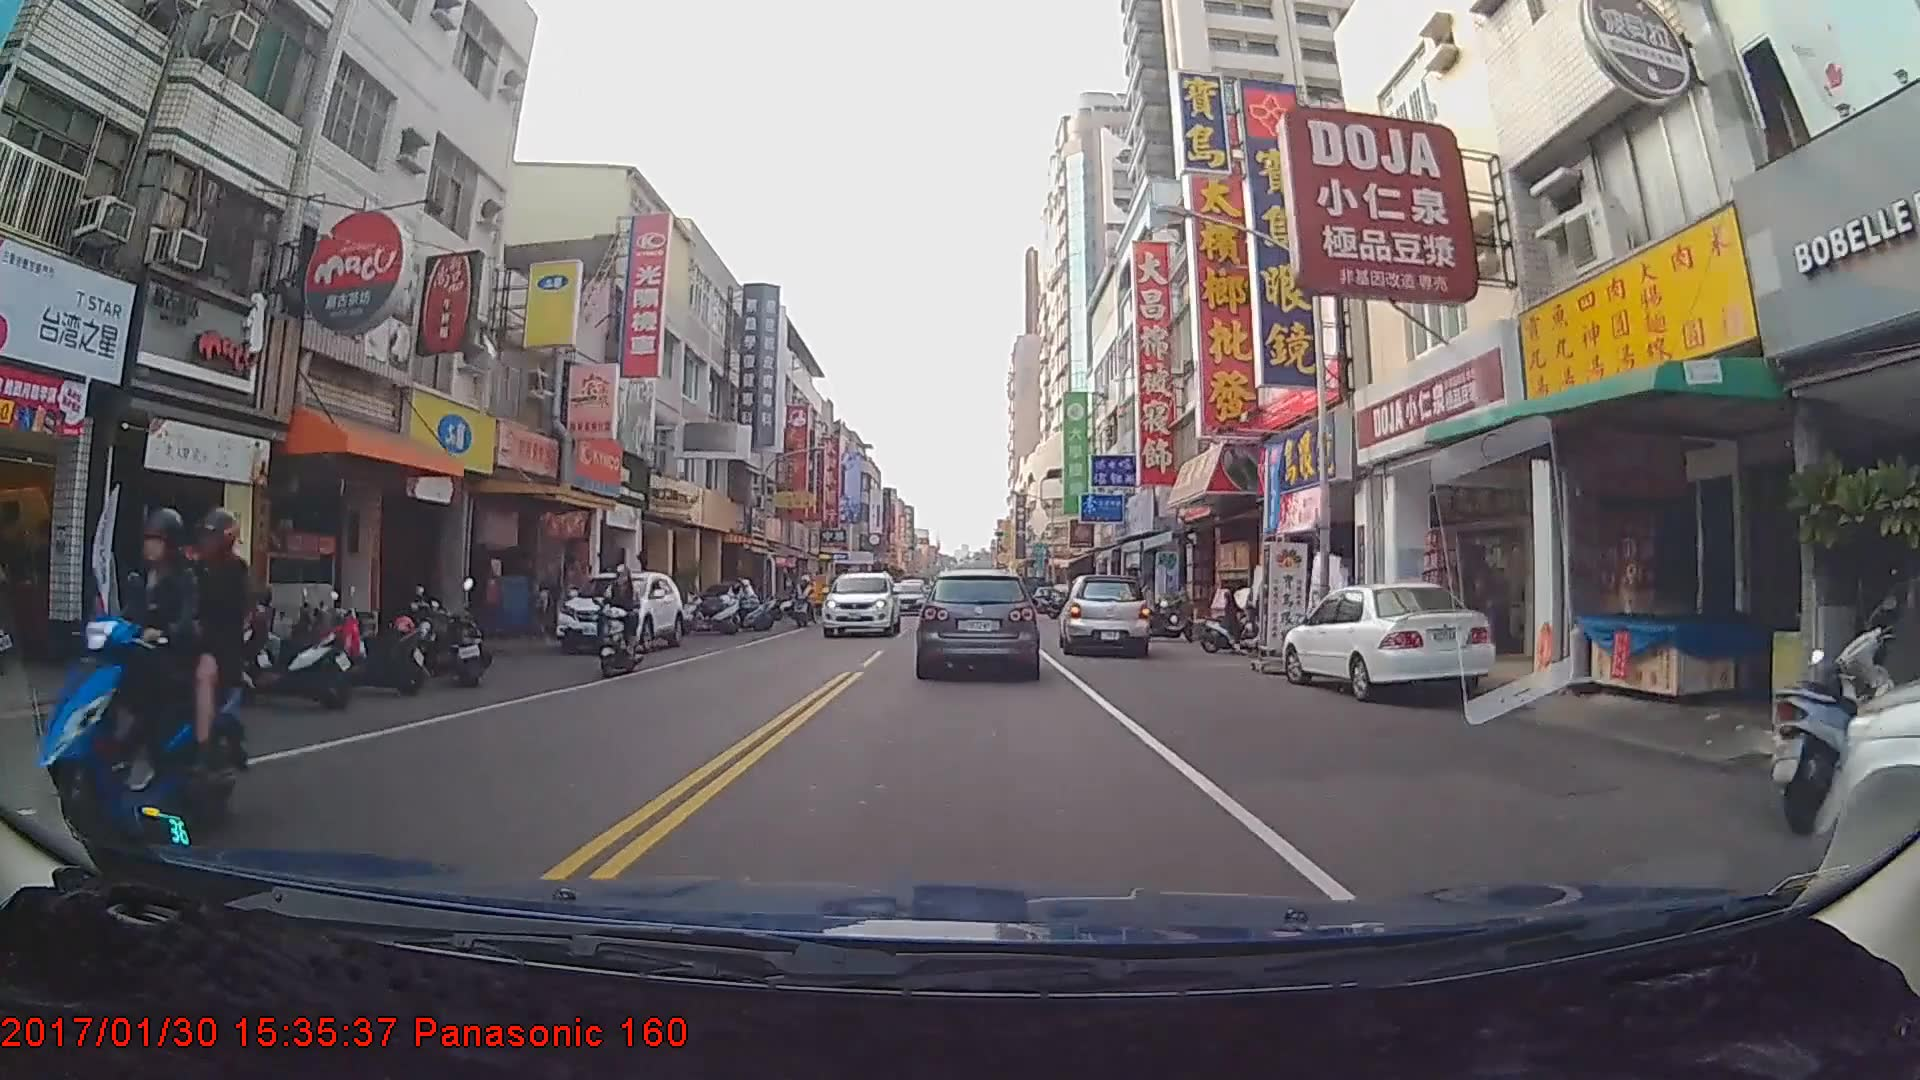rider: (52, 489, 249, 844), (594, 567, 651, 682), (1199, 582, 1277, 659), (789, 571, 817, 632)
vehicle: (1283, 582, 1493, 700), (918, 569, 1038, 675), (552, 570, 685, 654), (1060, 575, 1150, 659), (820, 568, 900, 637), (886, 583, 928, 617)
